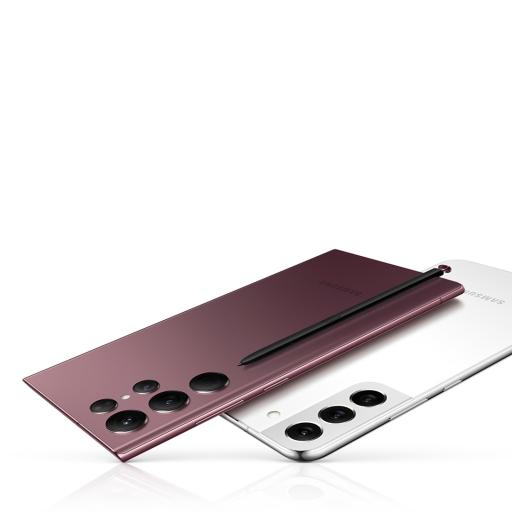phone: (20, 247, 472, 468)
